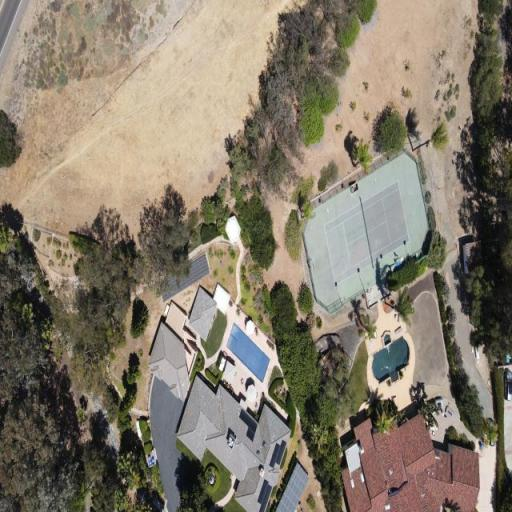solar-panel: (158, 253, 210, 303), (275, 462, 309, 512), (239, 408, 258, 442), (269, 439, 286, 469), (257, 479, 272, 512)
